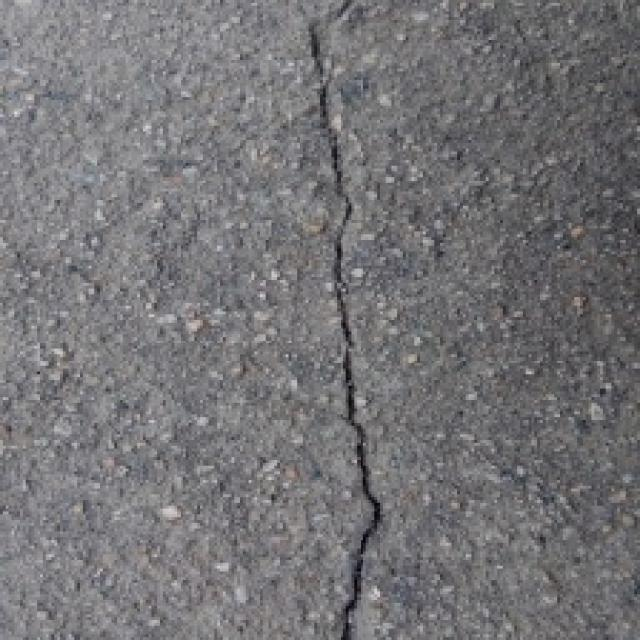crack: (282, 0, 420, 640)
